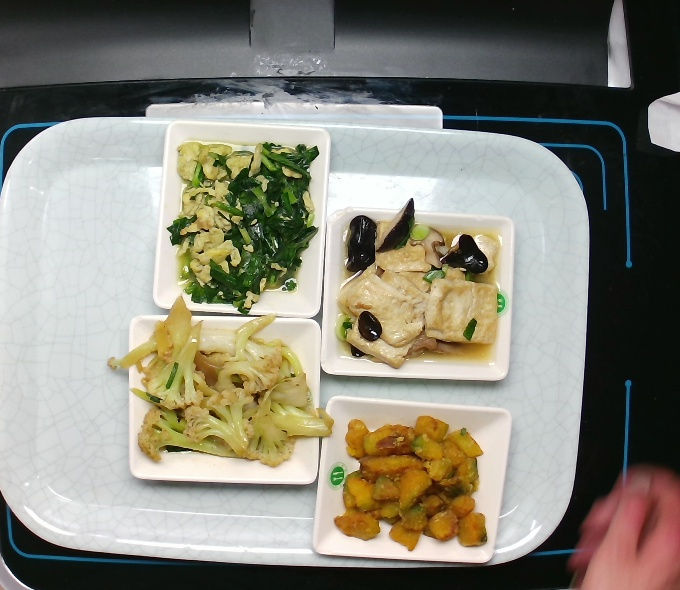wcq-DanHuangNanGua: (328, 403, 497, 555)
wcq-JiaChangDouFu: (322, 197, 509, 379)
wcq-JiuCaiJiDan: (165, 136, 324, 320)
wcq-QiuCai: (88, 299, 336, 479)
